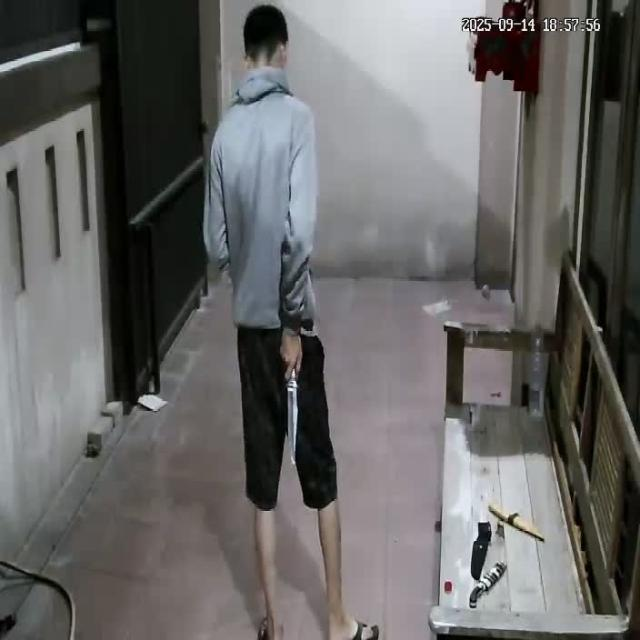senjata_tajam: (283, 376, 300, 469)
